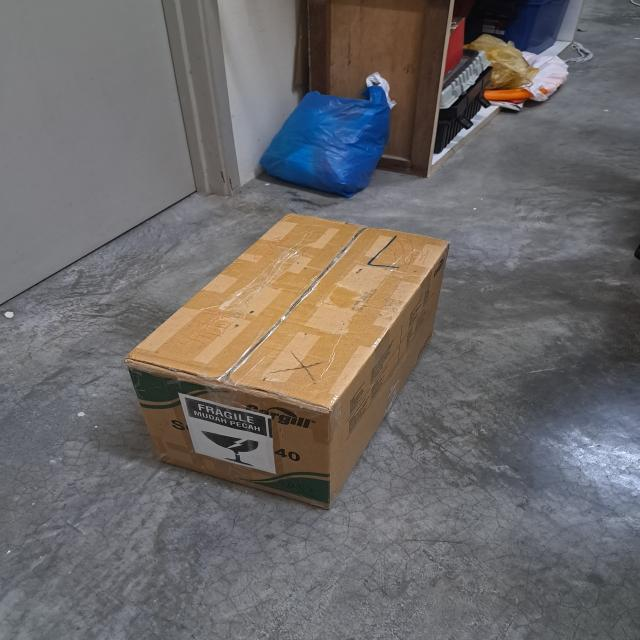cardboard: (126, 212, 450, 508)
